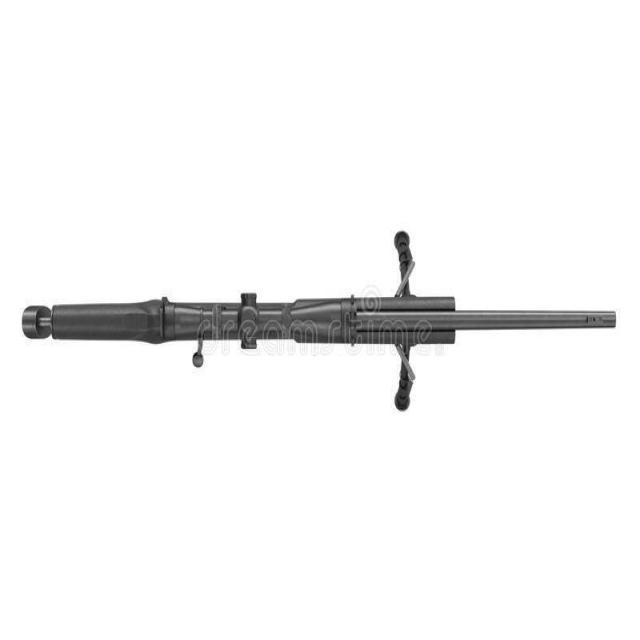gun: (20, 234, 614, 414)
